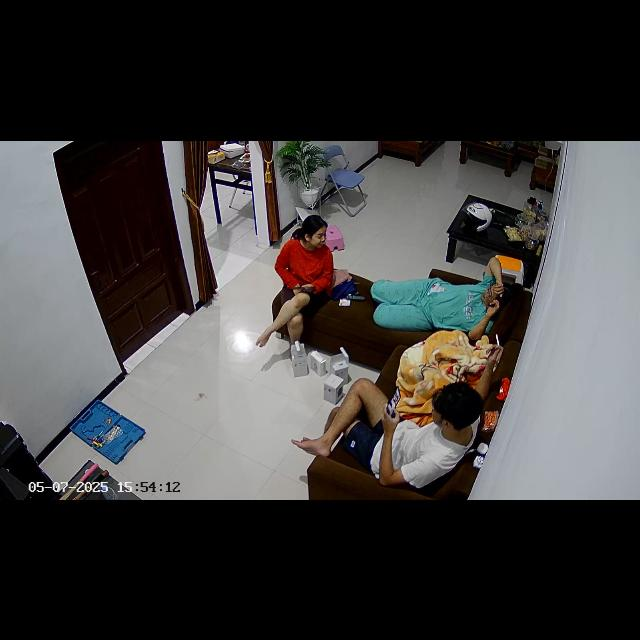rokok: (494, 334, 502, 344)
